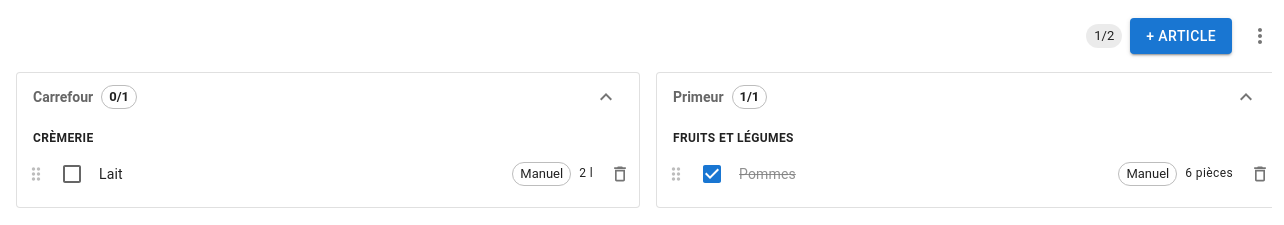
Scenario: GroceryListView — the page of the mockup › the ⋮ menu offers « Produit récurrent », « Terminer les courses » and « Courses passées »
expect the text "Lait" is shown: met, box [99, 166, 123, 182]
Click the button named "Plus d'actions": (1256, 36) [1240, 16, 1272, 56]
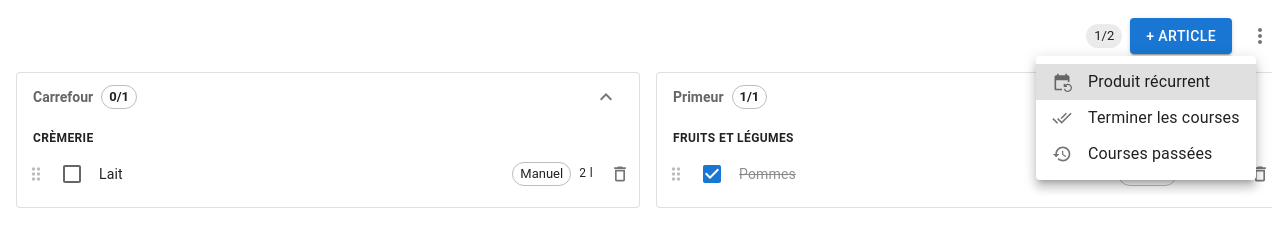
expect the menu items read "Produit récurrent", "Terminer les courses", "Courses passées", in this order: met, box [1036, 64, 1256, 100]; [1052, 108, 1240, 128]; [1052, 144, 1212, 164]
